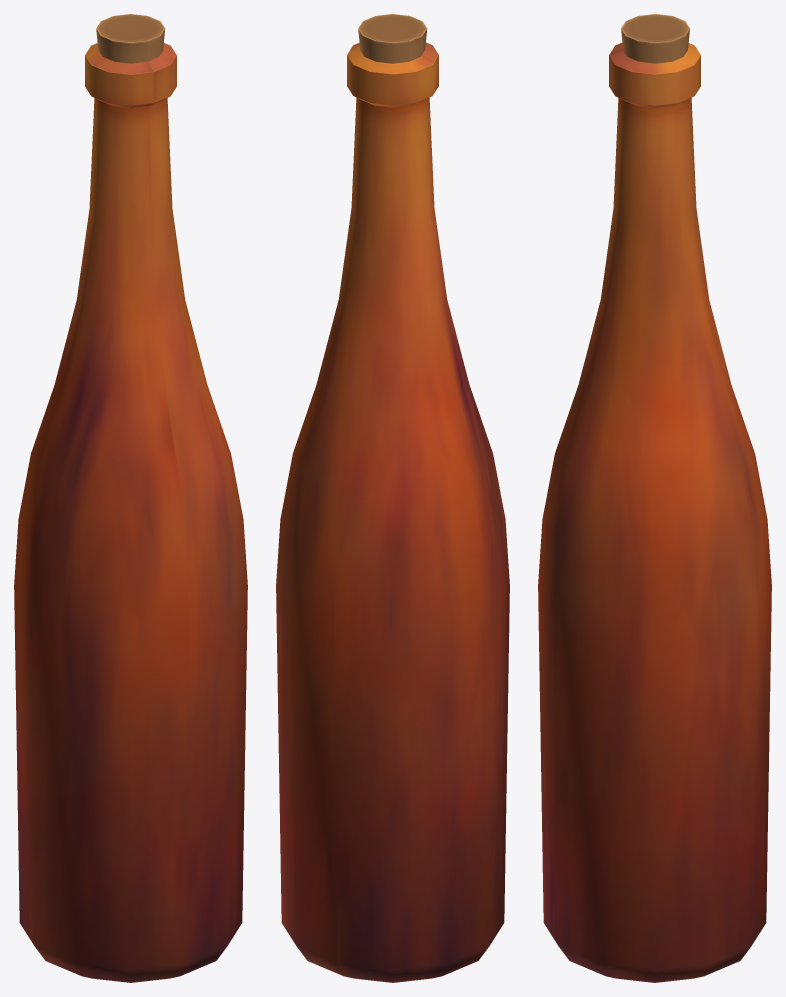
File: SM_Drink_Bottle_B_Red.fbx
3 views of the same model, side by side, from view 1: azimuth 30°, elevation 25°; view 2: azimuth 150°, elevation 25°; view 3: azimuth 270°, elevation 25° (orthographic).
Visible parts, largest first — view 1: SM_Drink_Bottle_B_Red_LOD0; view 2: SM_Drink_Bottle_B_Red_LOD0; view 3: SM_Drink_Bottle_B_Red_LOD0.
Part boxes in pixels (box(x1,y1,x2,y2)): SM_Drink_Bottle_B_Red_LOD0: box(14, 14, 247, 982); SM_Drink_Bottle_B_Red_LOD0: box(276, 14, 509, 982); SM_Drink_Bottle_B_Red_LOD0: box(538, 14, 771, 982).
Bounding box in the file's own units: 7.99 × 7.99 × 34.75.
Materials: 1 (1 with a texture image).
